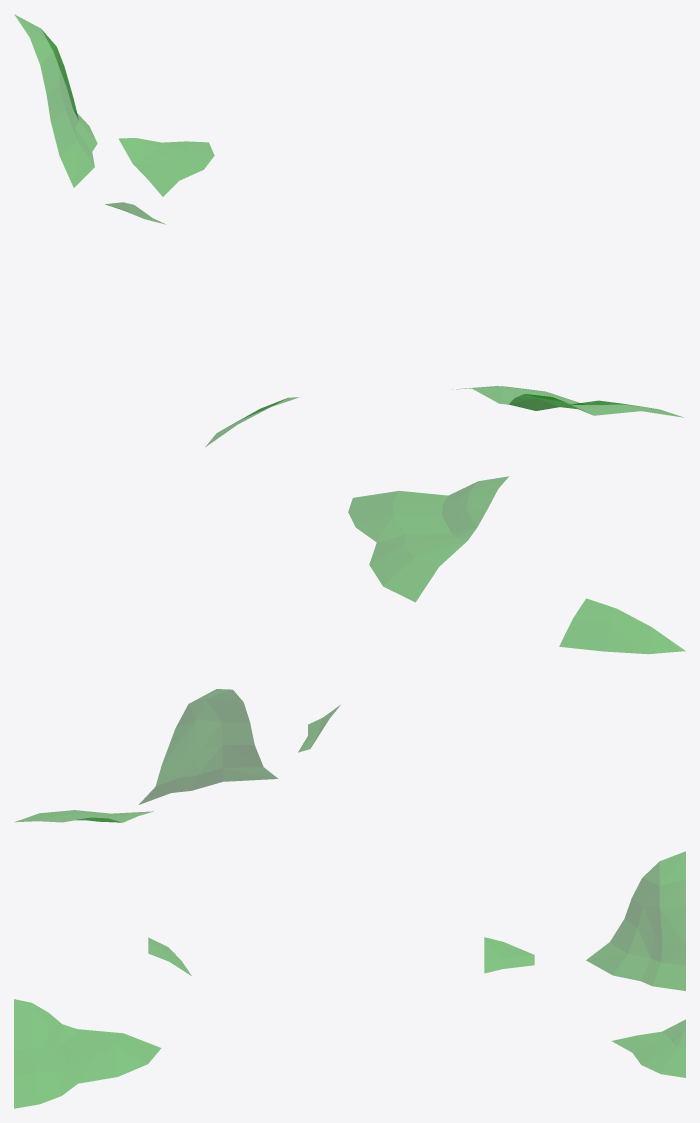
The model's file is stg121_C_hit.polymsh_extracted988.obj.
3 views of the same model, one above another, from view 1: azimuth 30°, elevation 25°; view 2: azimuth 150°, elevation 25°; view 3: azimuth 270°, elevation 25° (orthographic). The views are drawn at different scales.
Bounding box in the file's own units: 23.07 × 9.67 × 40.
